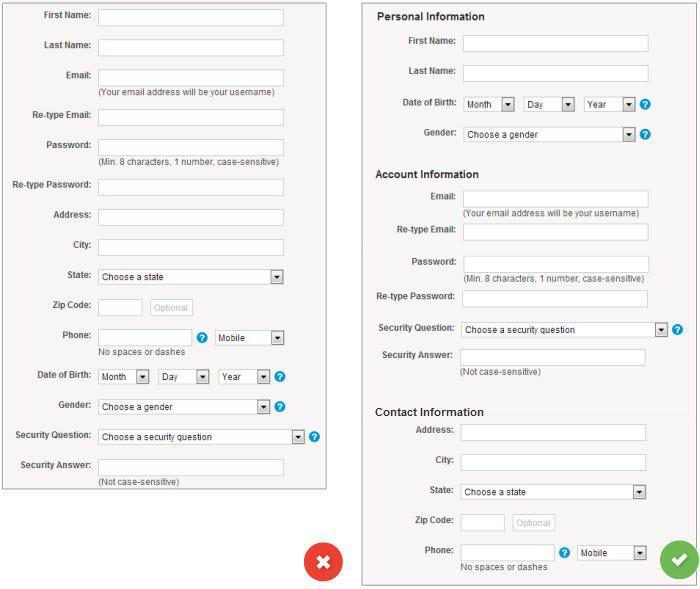button: (673, 325, 685, 336), (641, 130, 652, 141), (641, 100, 651, 111)
dropdown: (99, 40, 285, 57), (99, 430, 306, 445), (462, 323, 669, 338), (462, 485, 647, 500), (100, 270, 284, 285), (99, 400, 271, 415), (465, 128, 636, 143), (216, 331, 285, 346), (578, 547, 647, 561), (525, 98, 576, 113), (100, 370, 150, 385), (160, 370, 210, 385), (465, 98, 515, 113), (220, 371, 271, 385), (586, 98, 636, 112)
icon: (275, 402, 287, 414), (309, 432, 322, 443), (560, 547, 571, 560), (276, 372, 287, 384), (198, 333, 209, 344)
input: (99, 180, 285, 197), (100, 10, 285, 27), (100, 110, 285, 127), (464, 66, 649, 83), (462, 455, 647, 472), (465, 224, 649, 241), (99, 210, 285, 226), (100, 140, 285, 156), (100, 240, 285, 256), (100, 460, 285, 476), (464, 37, 649, 53), (464, 192, 649, 208), (461, 351, 646, 367), (462, 425, 647, 441), (100, 70, 284, 86), (465, 257, 649, 273), (464, 292, 648, 308), (462, 545, 555, 562), (99, 330, 193, 346), (462, 515, 506, 532), (100, 300, 144, 316), (514, 516, 556, 532), (151, 301, 193, 316)
label: (378, 10, 489, 25), (375, 407, 486, 420), (375, 169, 481, 182), (11, 179, 96, 192), (377, 291, 457, 304), (378, 323, 457, 336), (396, 224, 459, 237), (382, 351, 456, 362), (21, 461, 93, 472), (16, 431, 93, 441), (32, 110, 93, 122), (37, 370, 94, 382), (402, 98, 459, 110), (43, 40, 94, 53), (43, 10, 93, 22), (409, 36, 458, 47), (46, 141, 94, 152), (409, 66, 457, 77), (411, 258, 459, 269), (415, 426, 457, 437), (54, 211, 95, 222), (53, 301, 94, 312), (415, 516, 456, 527), (58, 400, 93, 412), (424, 128, 459, 140), (62, 330, 94, 342), (424, 546, 456, 557), (65, 71, 94, 82), (430, 192, 459, 203), (430, 486, 456, 497), (68, 272, 94, 282), (435, 456, 456, 467), (73, 241, 94, 251)
